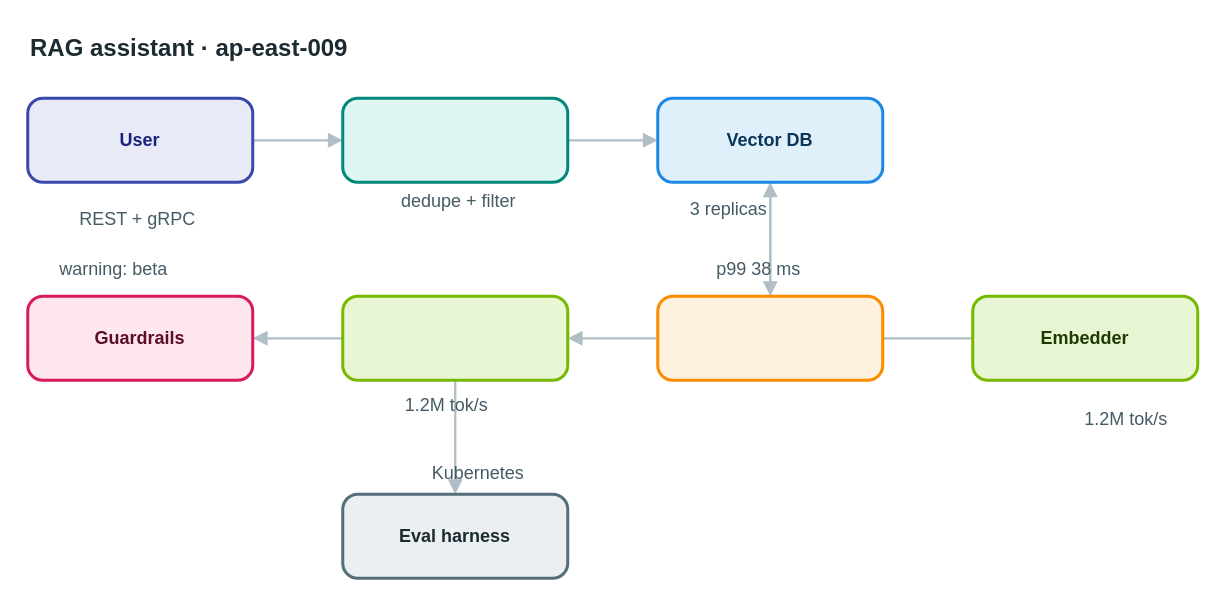
The diagram is 1224 pixels wide and 605 high, and some of its shapes have lost their labels. Each missing label, with the box of its shape:
Nemotron: (340, 294, 568, 381)
Reranker: (656, 294, 884, 381)
Retriever: (340, 96, 568, 183)
